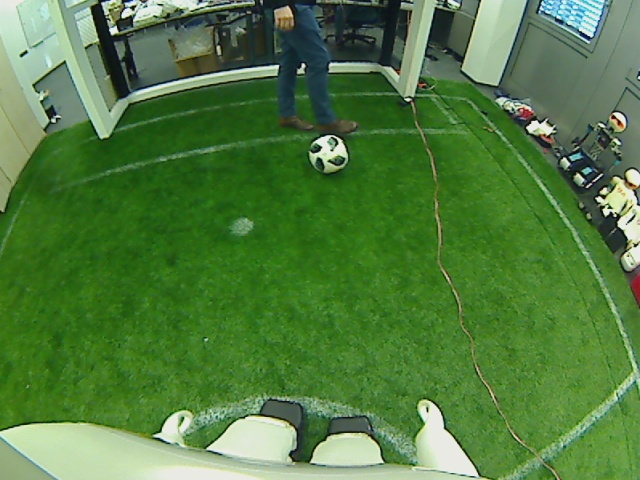ball: (306, 131, 352, 176)
